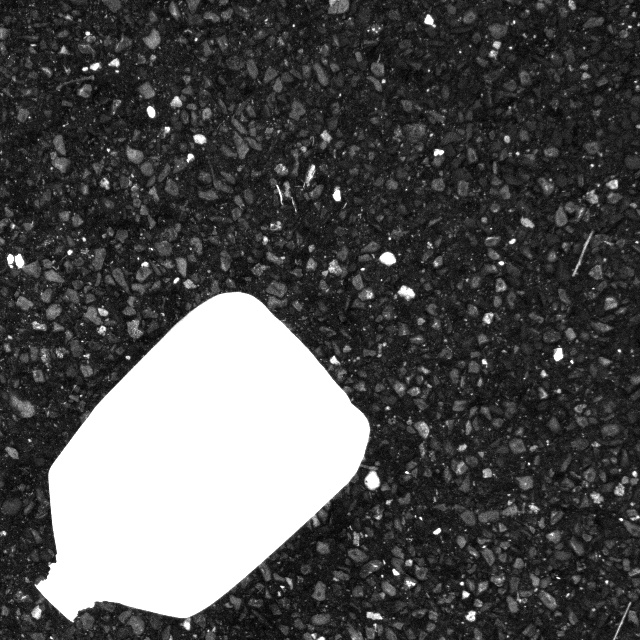can: (14, 282, 383, 637)
